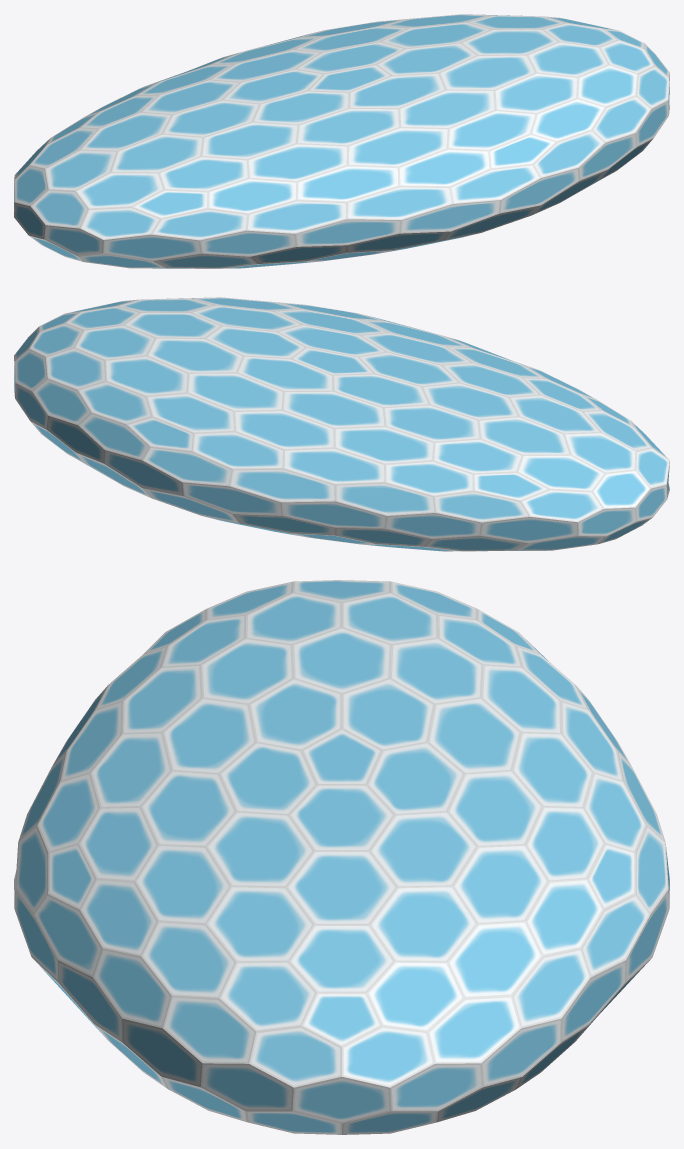
Rendered from Spaceship-Shield.fbx.
3 renders of one model, top to bottom at view 1: azimuth 30°, elevation 25°; view 2: azimuth 150°, elevation 25°; view 3: azimuth 270°, elevation 25°, orthographic. The views are drawn at different scales.
Parts seen in each view (by area): view 1: Starship-Shield; view 2: Starship-Shield; view 3: Starship-Shield.
Boxes of the visible parts, x1=… form: Starship-Shield: x1=14, y1=14, x2=669, y2=268; Starship-Shield: x1=14, y1=297, x2=669, y2=551; Starship-Shield: x1=14, y1=580, x2=669, y2=1134.
Size of the model in its own units: 207 by 40.96 by 117.
